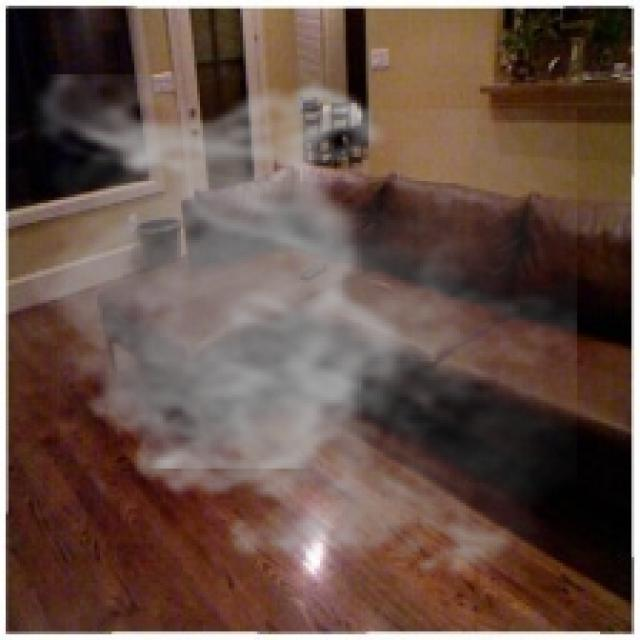smoke: (9, 74, 577, 592)
